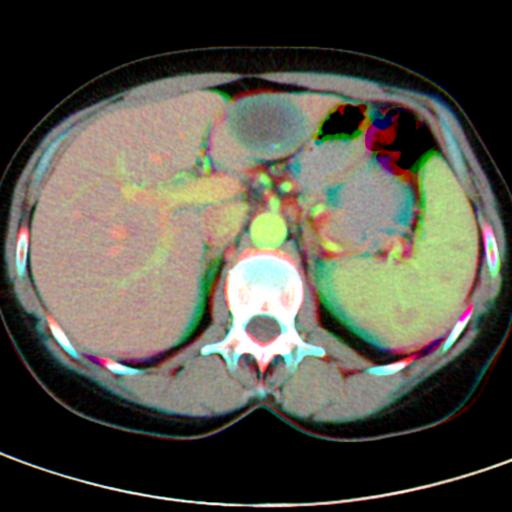Cyst: (227, 94, 309, 160)
